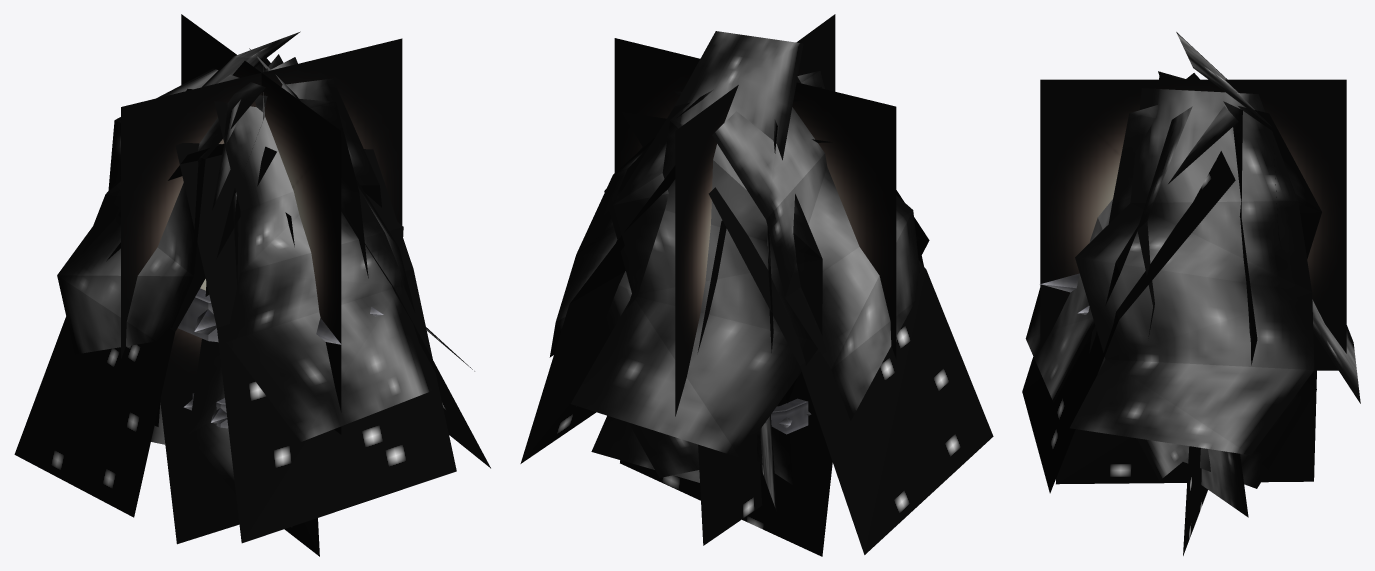
The picture shows the model from 3 angles, left to right: view 1: azimuth 30°, elevation 25°; view 2: azimuth 150°, elevation 25°; view 3: azimuth 270°, elevation 25°; orthographic projection. The views are drawn at different scales.
Parts seen in each view (by area): view 1: B_0170_2a_0, B_0170_2a_1; view 2: B_0170_2a_0, B_0170_2a_1; view 3: B_0170_2a_0, B_0170_2a_1.
Boxes of the visible parts, box(x1,y1,x2,y2) form: B_0170_2a_0: box(14, 14, 490, 556); B_0170_2a_1: box(178, 288, 383, 428); B_0170_2a_0: box(520, 14, 993, 556); B_0170_2a_1: box(765, 398, 811, 434); B_0170_2a_0: box(1022, 32, 1360, 555); B_0170_2a_1: box(1039, 273, 1089, 314).
Bounding box in the file's own units: 1.32 × 1.73 × 1.13.
2 materials, 2 textured.
